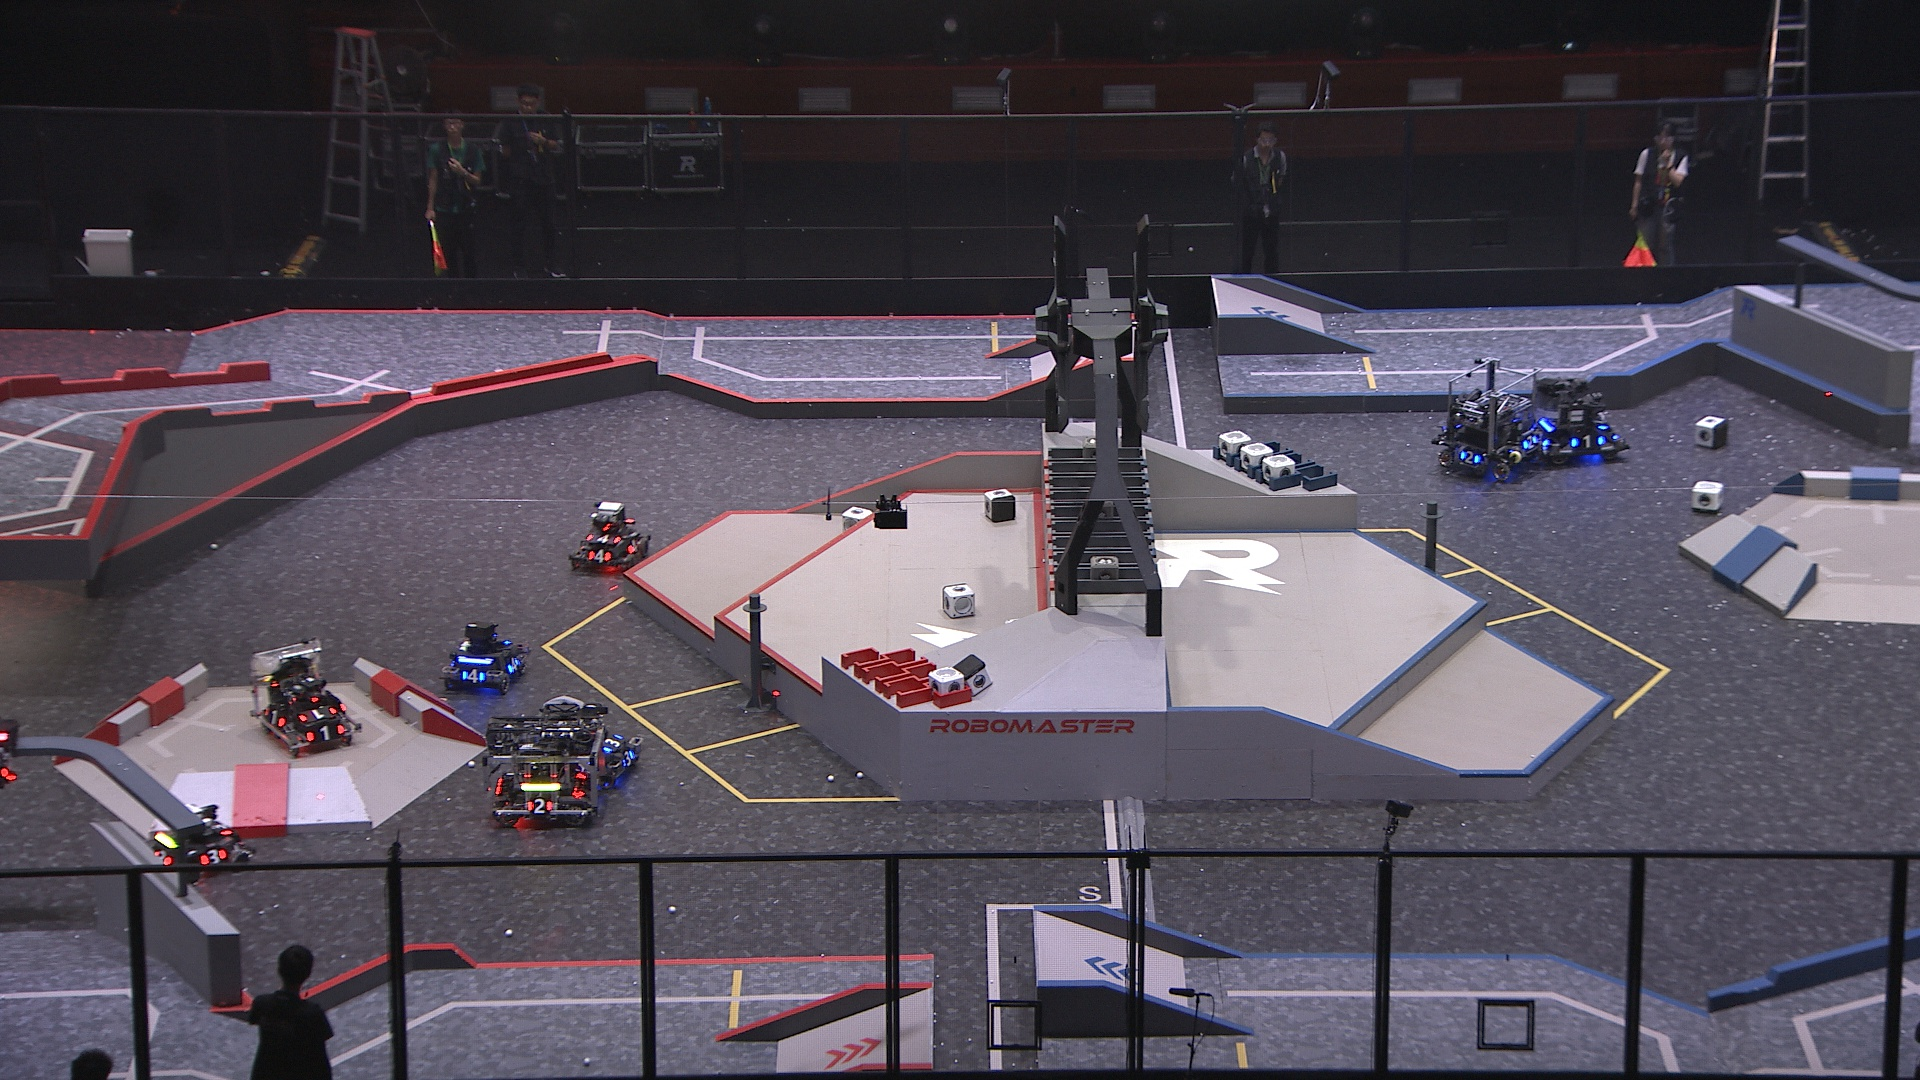armor: (294, 705, 338, 723), (302, 727, 345, 744), (1569, 434, 1607, 450), (196, 849, 229, 866), (262, 707, 286, 731), (524, 796, 553, 815), (599, 733, 622, 754), (583, 531, 622, 543), (1458, 448, 1484, 467), (585, 549, 613, 564), (460, 669, 487, 684), (208, 822, 235, 837), (152, 849, 174, 868), (1520, 433, 1539, 452), (618, 749, 636, 770), (505, 655, 520, 675), (626, 541, 641, 556), (1593, 418, 1610, 431)
car: (479, 698, 608, 831), (249, 636, 361, 760), (1429, 360, 1542, 481), (531, 695, 642, 789), (1524, 373, 1631, 467), (144, 803, 252, 885), (436, 617, 529, 695), (562, 500, 651, 578)
